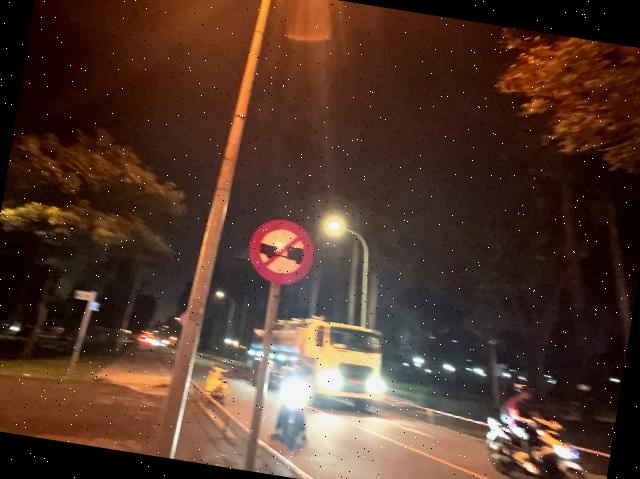cam-xe-somi-romooc: (242, 214, 318, 290)
